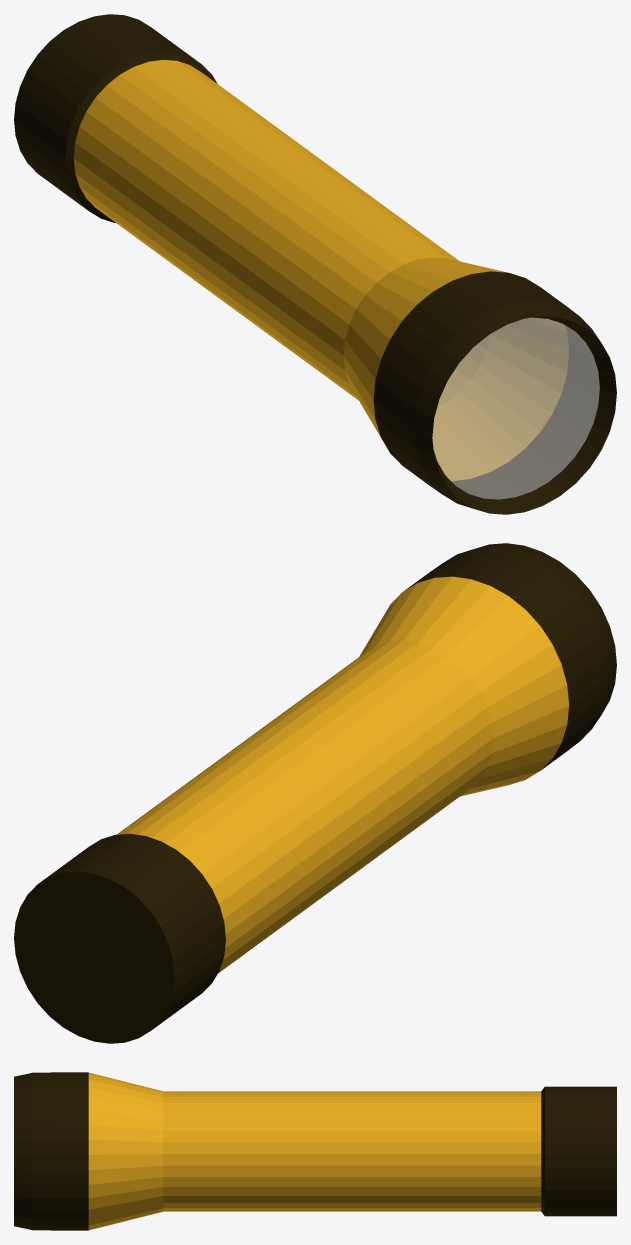
File: flashlight.fbx
The picture shows the model from 3 angles, top to bottom: view 1: azimuth 30°, elevation 25°; view 2: azimuth 150°, elevation 25°; view 3: azimuth 270°, elevation 25°; orthographic projection. The views are drawn at different scales.
Visible parts, largest first — view 1: Cylinder; view 2: Cylinder; view 3: Cylinder.
Boxes of the visible parts, left/top/right/bottom form: Cylinder: left=14, top=14, right=616, bottom=514; Cylinder: left=14, top=543, right=616, bottom=1043; Cylinder: left=14, top=1072, right=616, bottom=1230.
Bounding box in the file's own units: 3.22 × 3.22 × 12.3.
